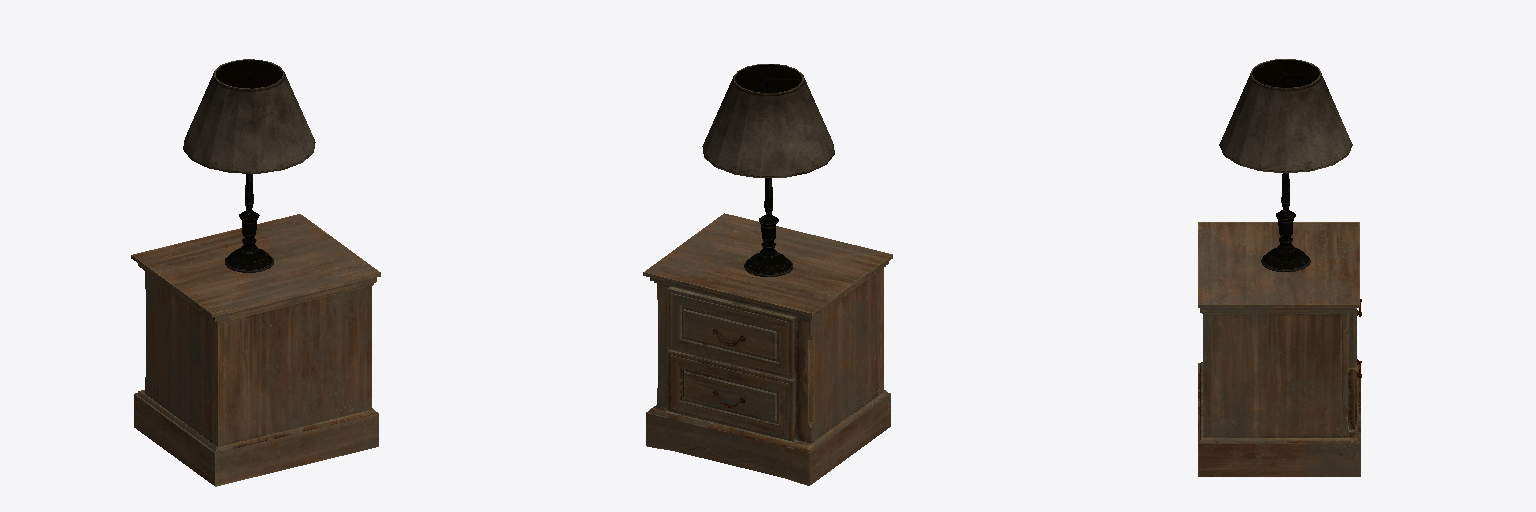
The picture shows the model from 3 angles: view 1: azimuth 30°, elevation 25°; view 2: azimuth 150°, elevation 25°; view 3: azimuth 270°, elevation 25°; orthographic projection.
Visible parts, largest first — view 1: SM_Nightstand_01_A_Combo; view 2: SM_Nightstand_01_A_Combo; view 3: SM_Nightstand_01_A_Combo.
Boxes of the visible parts, x1,y1,x2,y2 form: SM_Nightstand_01_A_Combo: [131, 59, 380, 486]; SM_Nightstand_01_A_Combo: [643, 64, 892, 485]; SM_Nightstand_01_A_Combo: [1198, 59, 1361, 476].
Bounding box in the file's own units: 59.53 × 122 × 50.27.
3 materials, 3 textured.